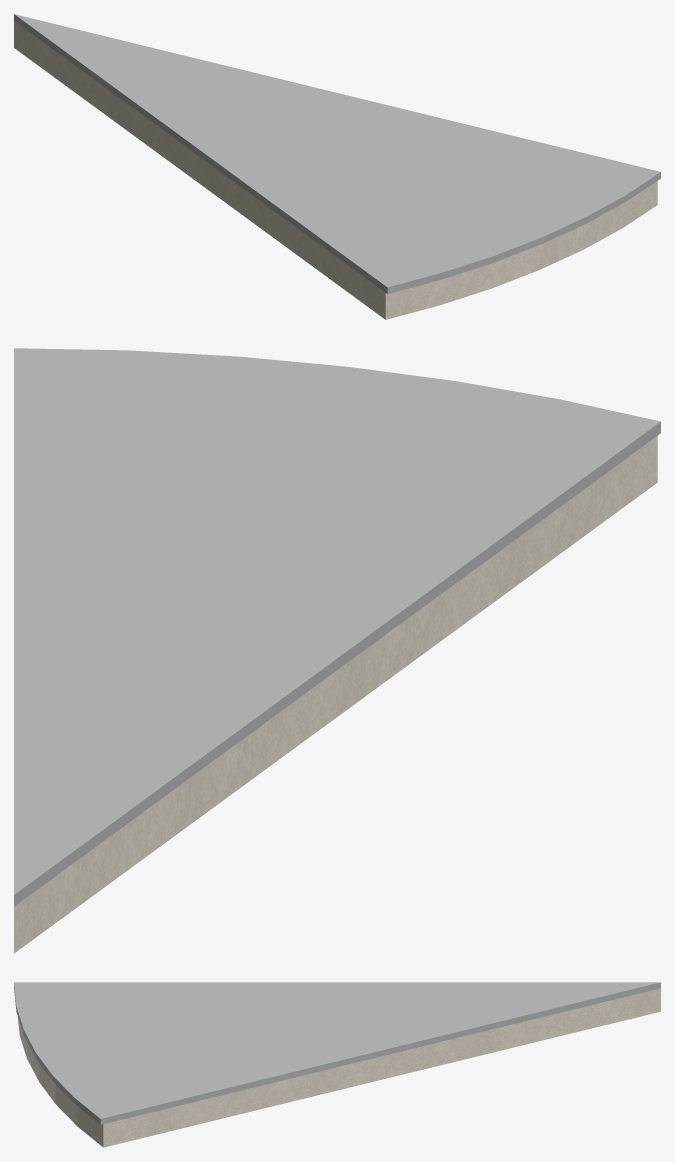
Rendered from roof_curve.glb.
3 renders of one model, top to bottom at view 1: azimuth 30°, elevation 25°; view 2: azimuth 150°, elevation 25°; view 3: azimuth 270°, elevation 25°, orthographic. The views are drawn at different scales.
Visible parts, largest first — view 1: roof_curve_roof_flat, roof_curve_plaster; view 2: roof_curve_roof_flat, roof_curve_plaster; view 3: roof_curve_roof_flat, roof_curve_plaster.
Boxes of the visible parts, left/top/right/bottom form: roof_curve_roof_flat: left=14, top=14, right=660, bottom=294; roof_curve_plaster: left=14, top=21, right=657, bottom=319; roof_curve_roof_flat: left=14, top=348, right=660, bottom=906; roof_curve_plaster: left=14, top=436, right=657, bottom=953; roof_curve_roof_flat: left=14, top=982, right=660, bottom=1124; roof_curve_plaster: left=17, top=988, right=660, bottom=1147.
Size of the model in its own units: 2 by 0.2 by 4.
2 materials, 1 textured.
